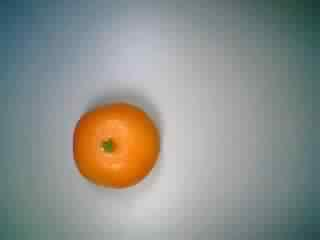orange: (67, 91, 162, 193)
